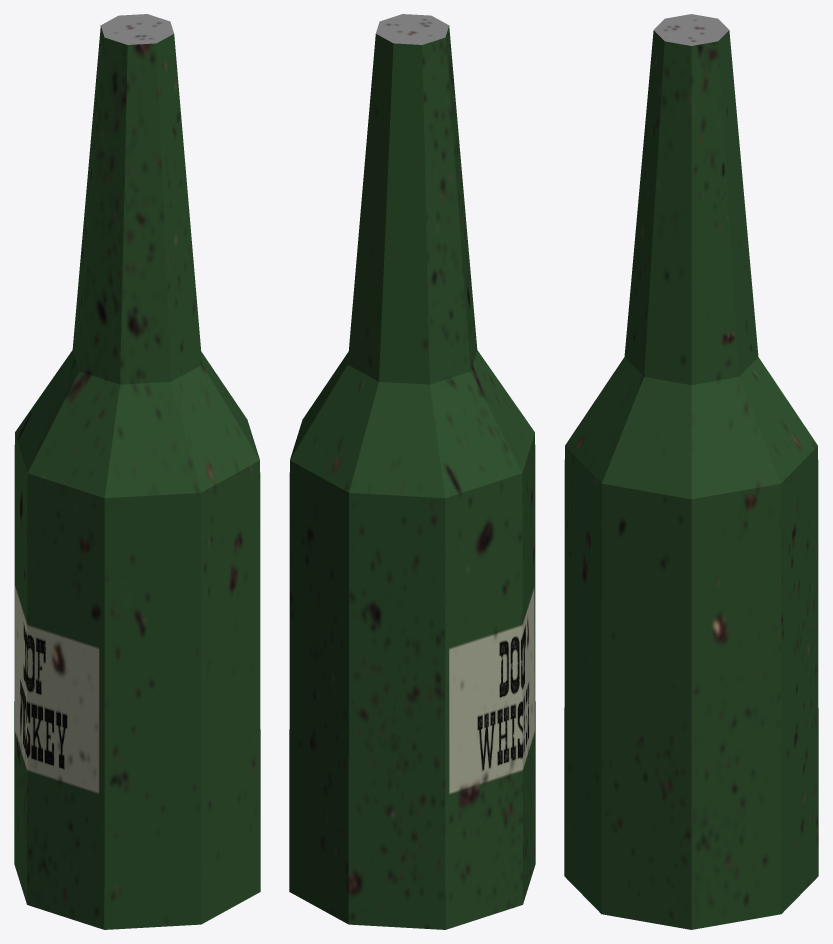
The model's file is bottle.fbx.
3 views of the same model, side by side, from view 1: azimuth 30°, elevation 25°; view 2: azimuth 150°, elevation 25°; view 3: azimuth 270°, elevation 25° (orthographic).
Parts seen in each view (by area): view 1: pCylinder1; view 2: pCylinder1; view 3: pCylinder1.
Part boxes in pixels (bbox=[...]): pCylinder1: bbox=[14, 14, 260, 929]; pCylinder1: bbox=[289, 14, 535, 929]; pCylinder1: bbox=[564, 14, 818, 929].
Size of the model in its own units: 1.73 by 6.35 by 1.73.
1 material, 1 textured.
